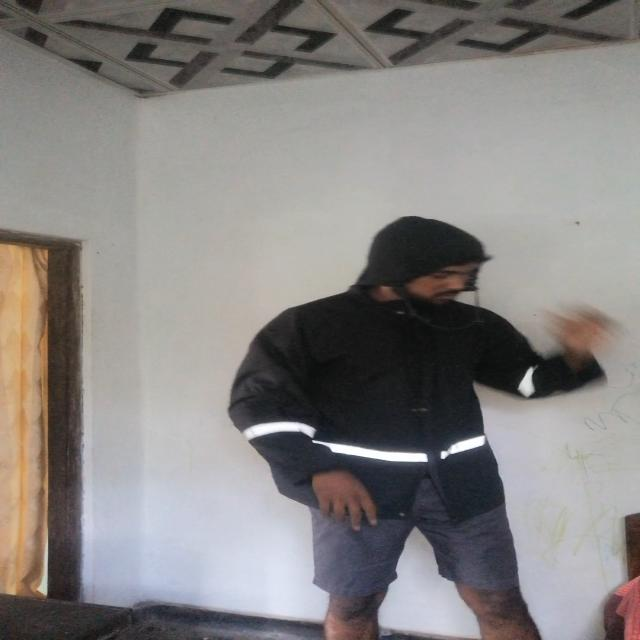Jacket_Wearer: (223, 210, 575, 507)
